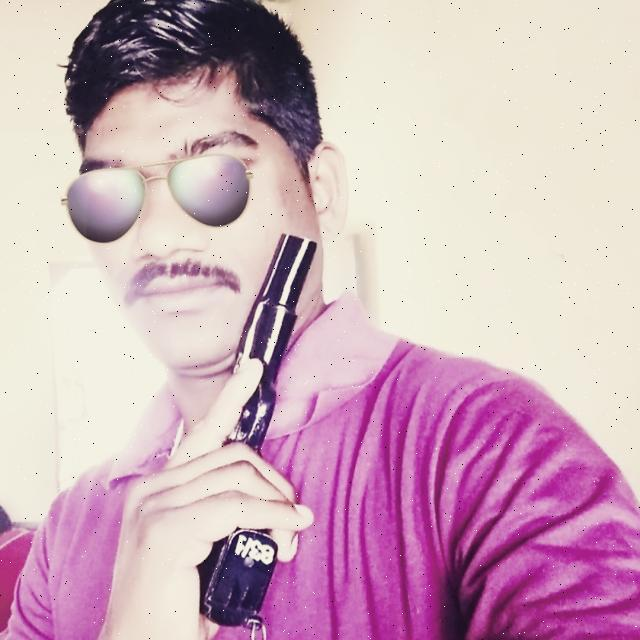gun: (185, 223, 329, 640)
